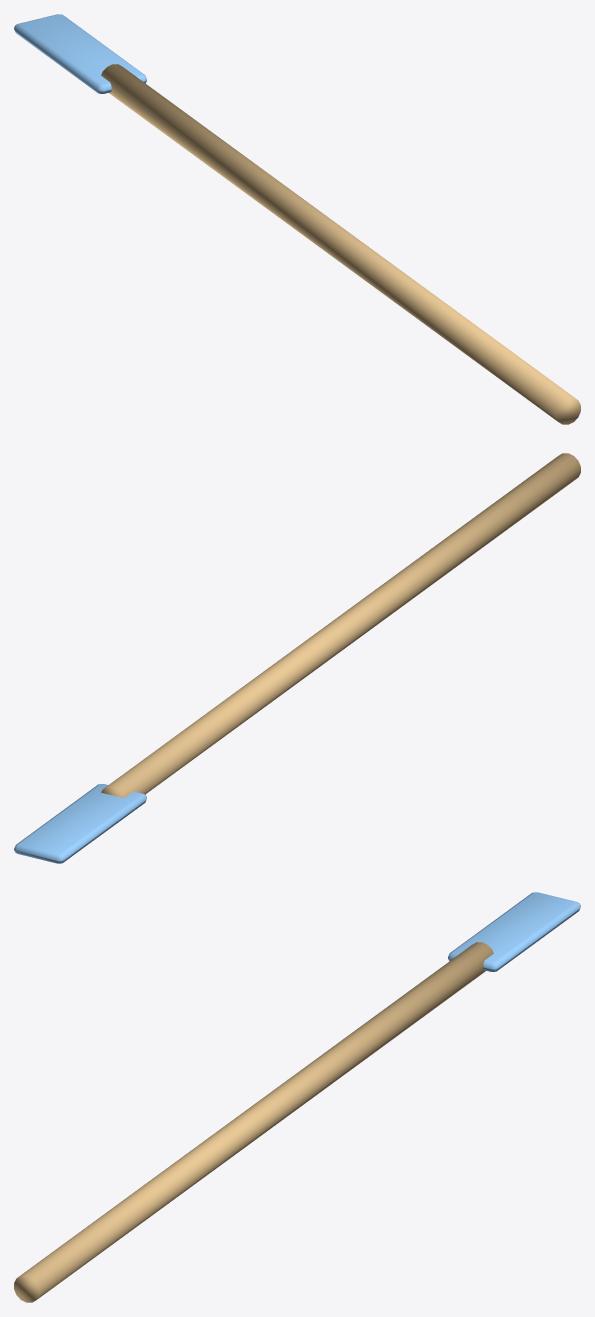
File: prop-oar.glb
The picture shows the model from 3 angles, top to bottom: view 1: azimuth 30°, elevation 25°; view 2: azimuth 150°, elevation 25°; view 3: azimuth 330°, elevation 25°; orthographic projection.
Parts seen in each view (by area): view 1: Cylinder, Cube; view 2: Cylinder, Cube; view 3: Cylinder, Cube.
Part boxes in pixels (x1,y1,x2,y2): Cylinder: (101,64,580,424); Cube: (14,14,146,93); Cylinder: (101,453,580,798); Cube: (14,784,146,863); Cylinder: (14,942,493,1302); Cube: (448,892,580,971).
Bounding box in the file's own units: 0.085 × 0.044 × 1.58.
